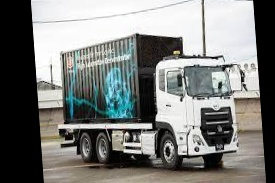truck: (58, 25, 251, 177)
